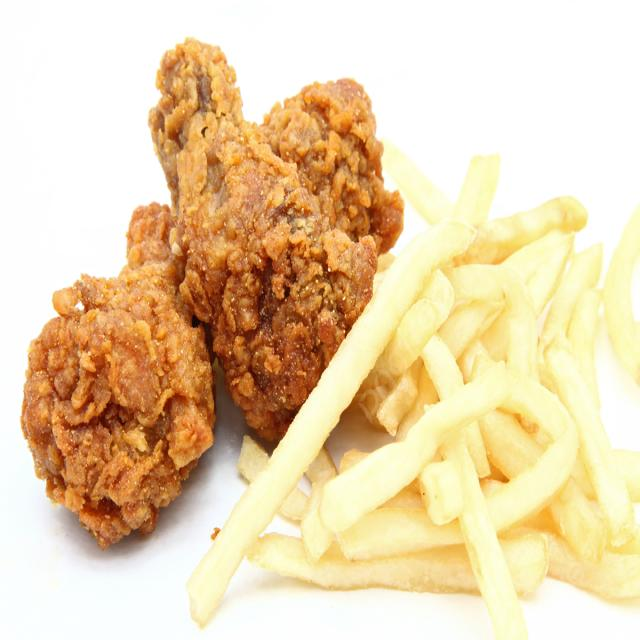carb: (189, 144, 640, 639)
meat: (22, 40, 404, 549)
